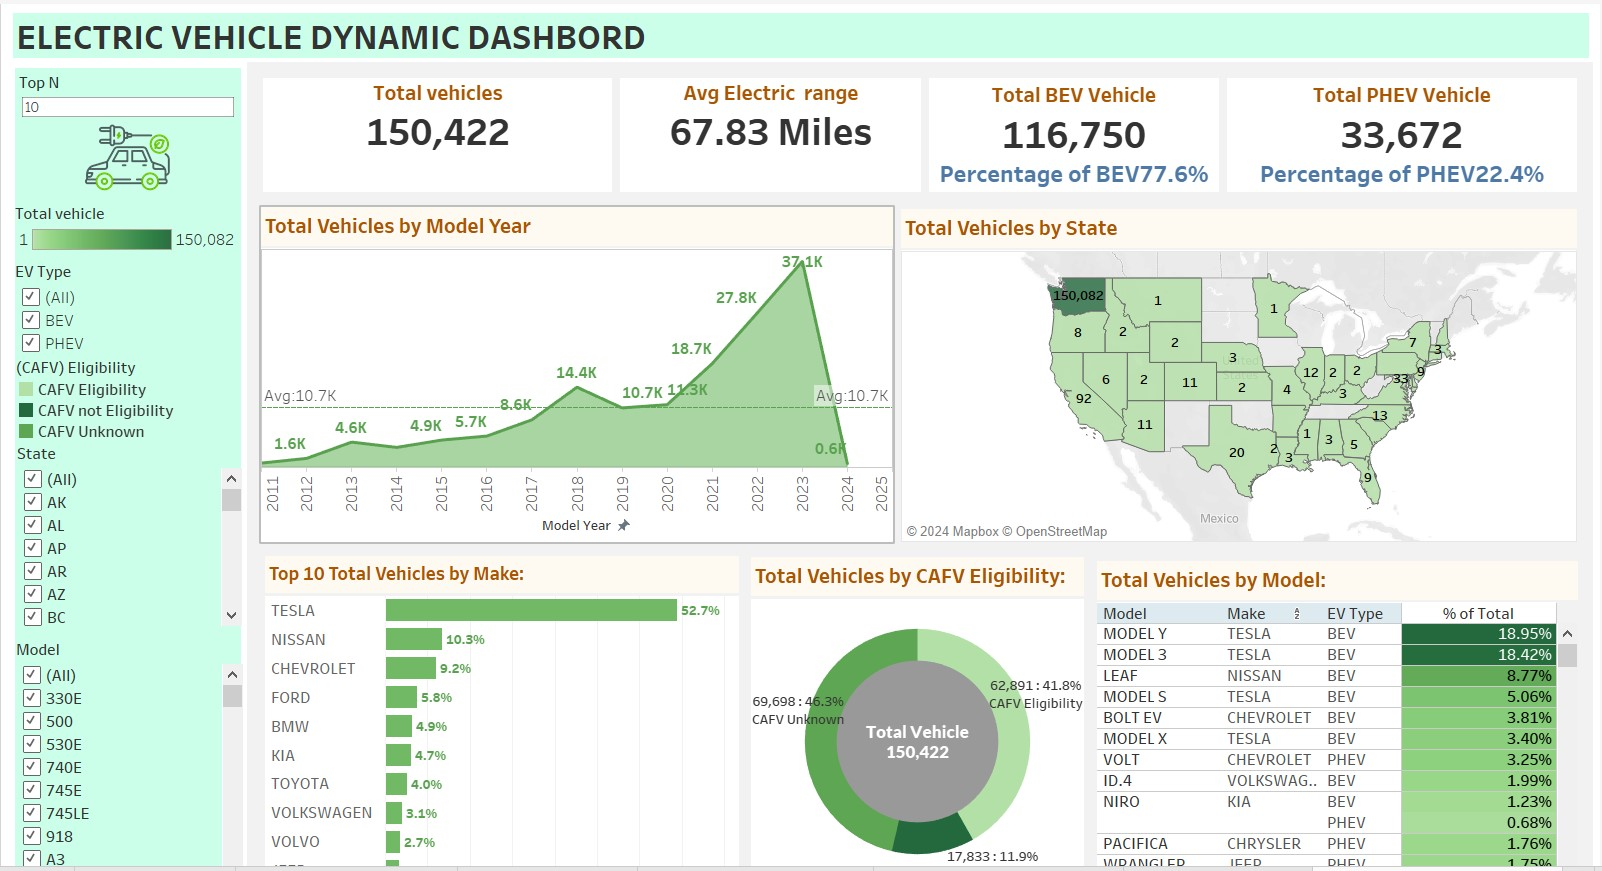

This screenshot's page, from the dashboard's own definition file:
{"tool":"tableau","page":{"name":"ELECTRIC VEHICLE DYNAMIC DASHBORD","canvas":[1600,900],"ordinal":0},"visuals":[{"type":"title","box":[8,8,1584,53]},{"type":"parameter","param":"[Parameters].[Parameter 1]","box":[14,67,226,61]},{"type":"worksheet","title":"Total Vehicle","mark":"Automatic","box":[258,73,357.5,122]},{"type":"worksheet","title":"Avg E. range","mark":"Automatic","box":[615.5,73,309,122]},{"type":"worksheet","title":"Total BEV Vehicle","mark":"Automatic","box":[924.5,73,298,122]},{"type":"worksheet","title":"Total PHEV Vehicles","mark":"Automatic","box":[1222.5,73,357.5,122]},{"type":"image","param":"C:/Users/Yonatan/Downloads/electric-car.png","box":[14,110,225,92]},{"type":"legend","title":"Total Vehicles by State","param":"[federated.021xcat1skxbvs1385bhu1kfyylp].[usr:Calculation_475974206073851904:qk]","box":[14,202,224,88]},{"type":"worksheet","title":"Total Vehicles by Model Year","mark":"Area","rows":["Calculation_475974206073851904","Calculation_475974206073851904"],"cols":["Model Year"],"box":[260,206,632,335]},{"type":"blank","box":[246,207,1346,342.5]},{"type":"worksheet","title":"Total Vehicles by State","mark":"Multipolygon","box":[900,208,676,333]},{"type":"filter","title":"Top 10 Total Vehicles by Make:","param":"[federated.021xcat1skxbvs1385bhu1kfyylp].[none:Electric Vehicle Type:nk]","box":[14,260,225,97]},{"type":"legend","title":"Total Vehicles by CAFV Eligibility:","param":"[federated.021xcat1skxbvs1385bhu1kfyylp].[none:Clean Alternative Fuel Vehicle (C","box":[15,356,224,85]},{"type":"filter","title":"Total Vehicles by Model Year","param":"[federated.021xcat1skxbvs1385bhu1kfyylp].[none:State:nk]","box":[16,442,225,183]},{"type":"blank","box":[246,549.5,1346,342.5]},{"type":"worksheet","title":"Top 10 Total Vehicles by Make:","mark":"Automatic","rows":["Make"],"cols":["Calculation_475974206073851904"],"box":[264,555,474,329]},{"type":"worksheet","title":"Total Vehicles by CAFV Eligibility:","mark":"Pie","rows":["Calculation_475974206144233479","Calculation_475974206144233479"],"box":[750,556,333,327]},{"type":"worksheet","title":"Total Vehicles by Model:","mark":"Square","rows":["Model","Make","Electric Vehicle Type"],"box":[1096,560,481,324]},{"type":"filter","title":"Total Vehicles by Model Year","param":"[federated.021xcat1skxbvs1385bhu1kfyylp].[none:Model:nk]","box":[15,638,227,247]}]}

Visuals, with their boxes on the page's 1600x900 design canvas (x1, y1, x2, y2). These are canvas units, not pixel positions in the 1602x871 screenshot, which may show the page scaled, cropped or inside an application window:
title: (8, 8, 1592, 61)
parameter: (14, 67, 240, 128)
"Total Vehicle" worksheet: (258, 73, 616, 195)
"Avg E. range" worksheet: (616, 73, 924, 195)
"Total BEV Vehicle" worksheet: (924, 73, 1222, 195)
"Total PHEV Vehicles" worksheet: (1222, 73, 1580, 195)
image: (14, 110, 239, 202)
"Total Vehicles by State" legend: (14, 202, 238, 290)
"Total Vehicles by Model Year" worksheet (Area marks): (260, 206, 892, 541)
blank: (246, 207, 1592, 550)
"Total Vehicles by State" worksheet (Multipolygon marks): (900, 208, 1576, 541)
"Top 10 Total Vehicles by Make:" filter: (14, 260, 239, 357)
"Total Vehicles by CAFV Eligibility:" legend: (15, 356, 239, 441)
"Total Vehicles by Model Year" filter: (16, 442, 241, 625)
blank: (246, 550, 1592, 892)
"Top 10 Total Vehicles by Make:" worksheet: (264, 555, 738, 884)
"Total Vehicles by CAFV Eligibility:" worksheet (Pie marks): (750, 556, 1083, 883)
"Total Vehicles by Model:" worksheet (Square marks): (1096, 560, 1577, 884)
"Total Vehicles by Model Year" filter: (15, 638, 242, 885)
